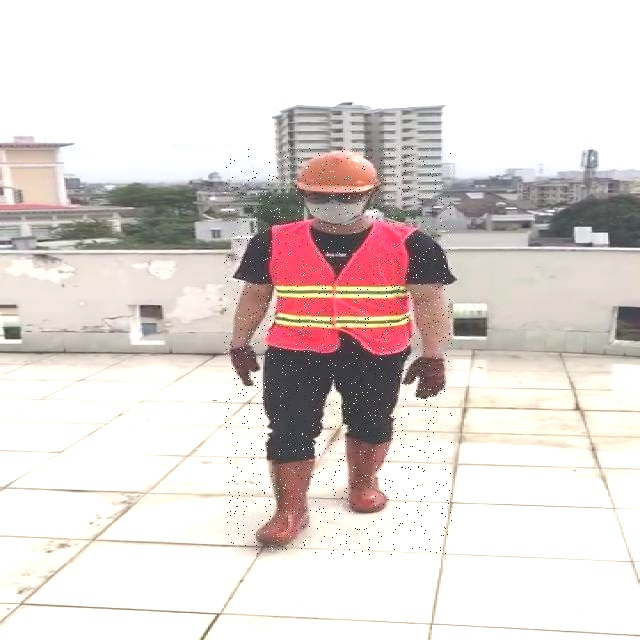boots: (322, 454, 392, 547), (246, 440, 292, 515)
gloves: (180, 343, 240, 412), (375, 339, 419, 408)
helmet: (260, 150, 348, 194)
vest: (226, 221, 372, 351)
